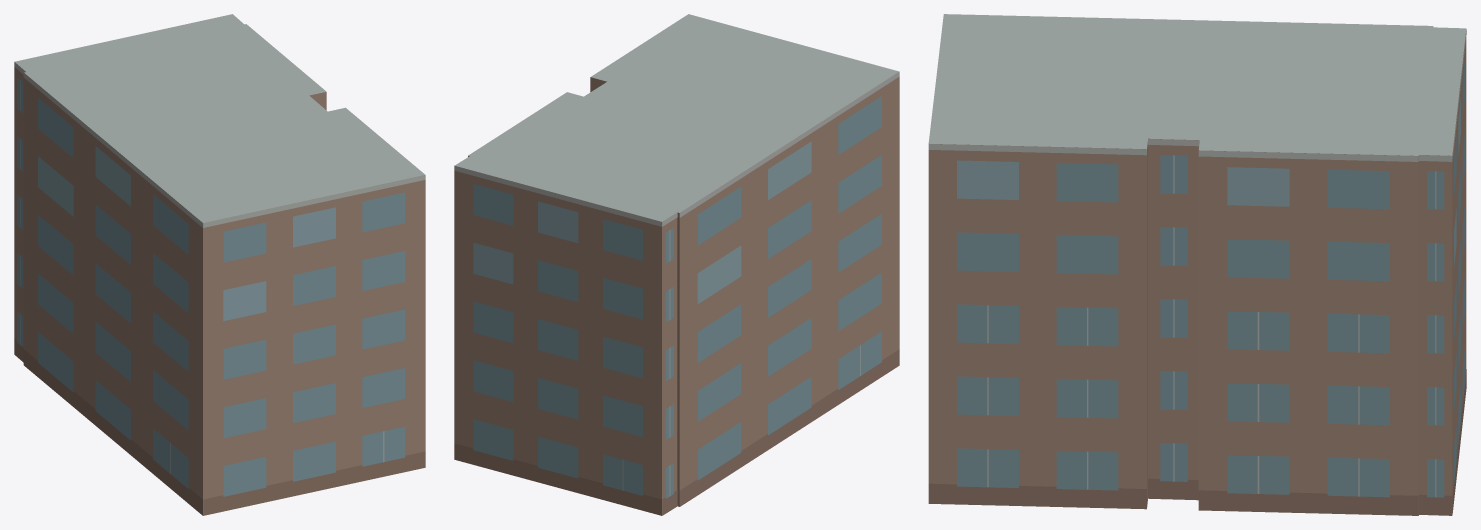
Rendered from survey-upis-32671891.glb.
3 renders of one model, left to right at view 1: azimuth 30°, elevation 25°; view 2: azimuth 150°, elevation 25°; view 3: azimuth 270°, elevation 25°, orthographic. The views are drawn at different scales.
Parts seen in each view (by area): view 1: survey-upis-32671891.tmp; view 2: survey-upis-32671891.tmp; view 3: survey-upis-32671891.tmp.
Boxes of the visible parts, <box> form: survey-upis-32671891.tmp: <box>14,14,425,515</box>; survey-upis-32671891.tmp: <box>454,14,899,515</box>; survey-upis-32671891.tmp: <box>928,14,1466,515</box>.
Bounding box in the file's own units: 12.23 × 14.45 × 19.58.
